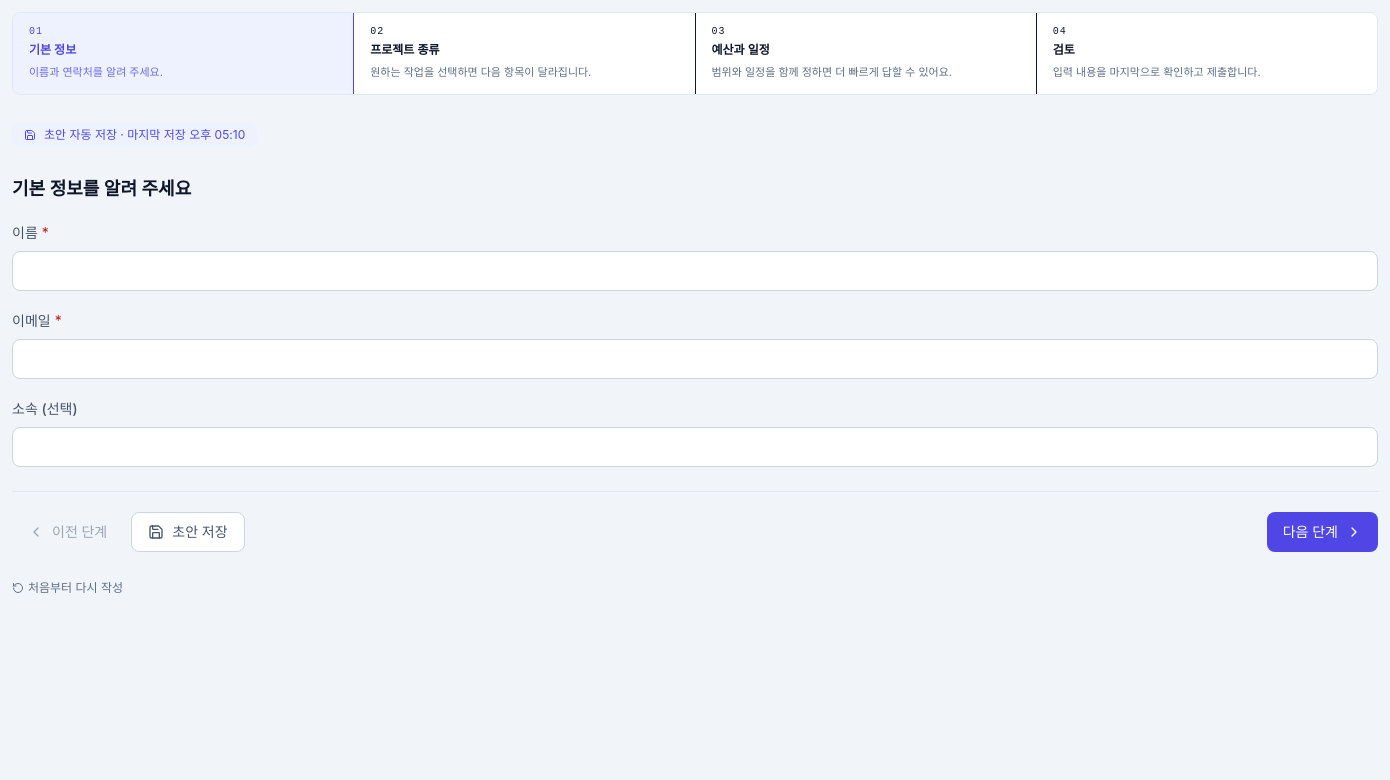
다음 버튼을 누르면 현재 단계 필드만 검증한다
This screenshot has width=1390, height=780.
Click the button "다음 단계": {"x": 1322, "y": 532} left=1267, top=512, right=1378, bottom=552
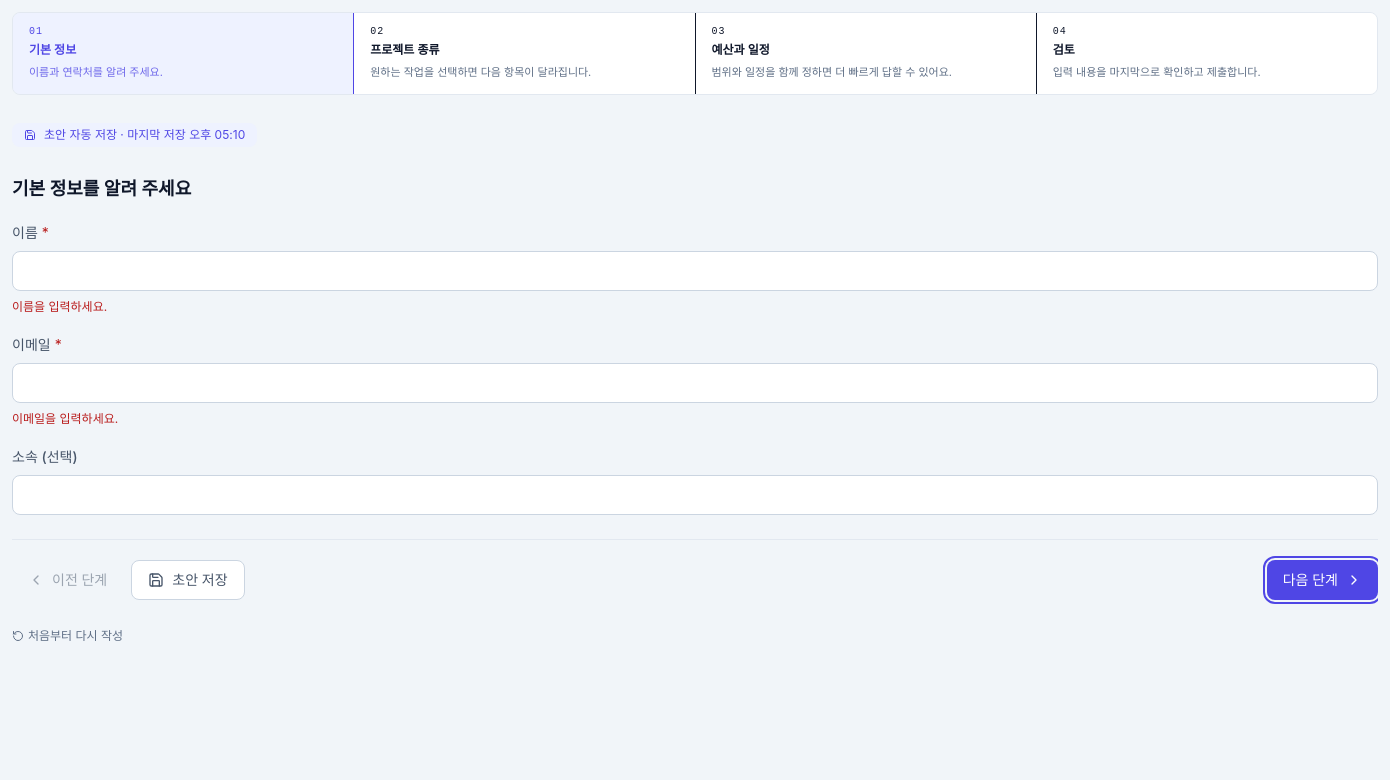
Check: the text "이름을 입력하세요." is shown, box left=12, top=299, right=107, bottom=314
Check: the text "이메일을 입력하세요." is shown, box left=12, top=411, right=118, bottom=426
